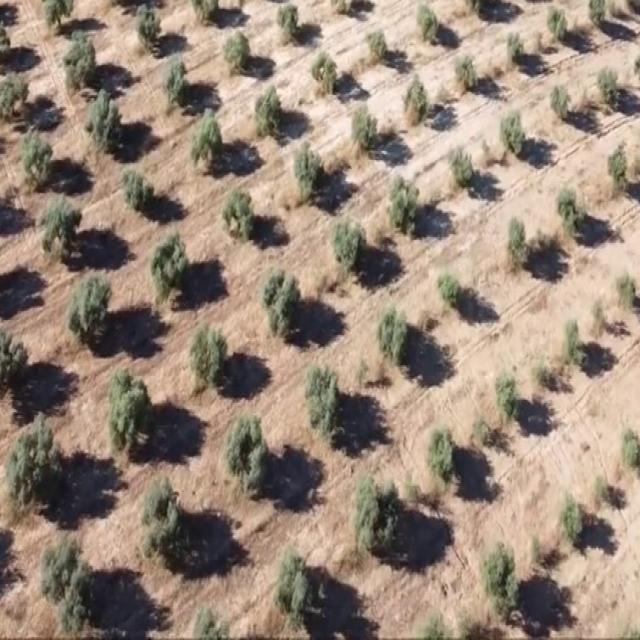trees: (1, 409, 63, 511), (104, 362, 158, 464), (38, 528, 92, 629), (268, 540, 320, 640), (136, 471, 188, 568), (348, 472, 402, 561), (62, 264, 114, 352), (145, 224, 193, 316), (478, 533, 524, 629), (221, 410, 267, 499), (36, 189, 87, 267), (299, 357, 345, 441), (186, 318, 235, 394), (369, 298, 416, 377), (260, 266, 306, 346), (288, 138, 338, 206), (381, 171, 425, 242), (57, 32, 102, 100), (328, 210, 372, 279), (188, 109, 230, 177), (82, 88, 124, 154), (423, 420, 461, 492), (402, 67, 444, 132), (215, 188, 260, 248), (16, 128, 57, 192), (498, 210, 535, 277), (345, 100, 384, 162), (251, 80, 290, 141), (491, 358, 524, 427), (495, 104, 530, 168), (308, 46, 346, 104), (552, 179, 586, 242), (120, 167, 160, 220), (604, 139, 638, 201), (0, 68, 32, 132), (554, 494, 588, 554), (445, 140, 480, 197), (159, 54, 193, 110), (220, 27, 256, 79), (133, 2, 166, 58), (410, 0, 446, 50), (450, 49, 484, 101), (558, 314, 587, 374), (361, 22, 396, 70), (593, 61, 624, 114), (436, 268, 468, 318), (546, 80, 578, 129), (613, 261, 640, 319), (272, 0, 305, 47), (499, 25, 530, 73), (544, 1, 575, 49), (41, 0, 81, 34), (584, 0, 620, 32), (188, 0, 224, 29)
